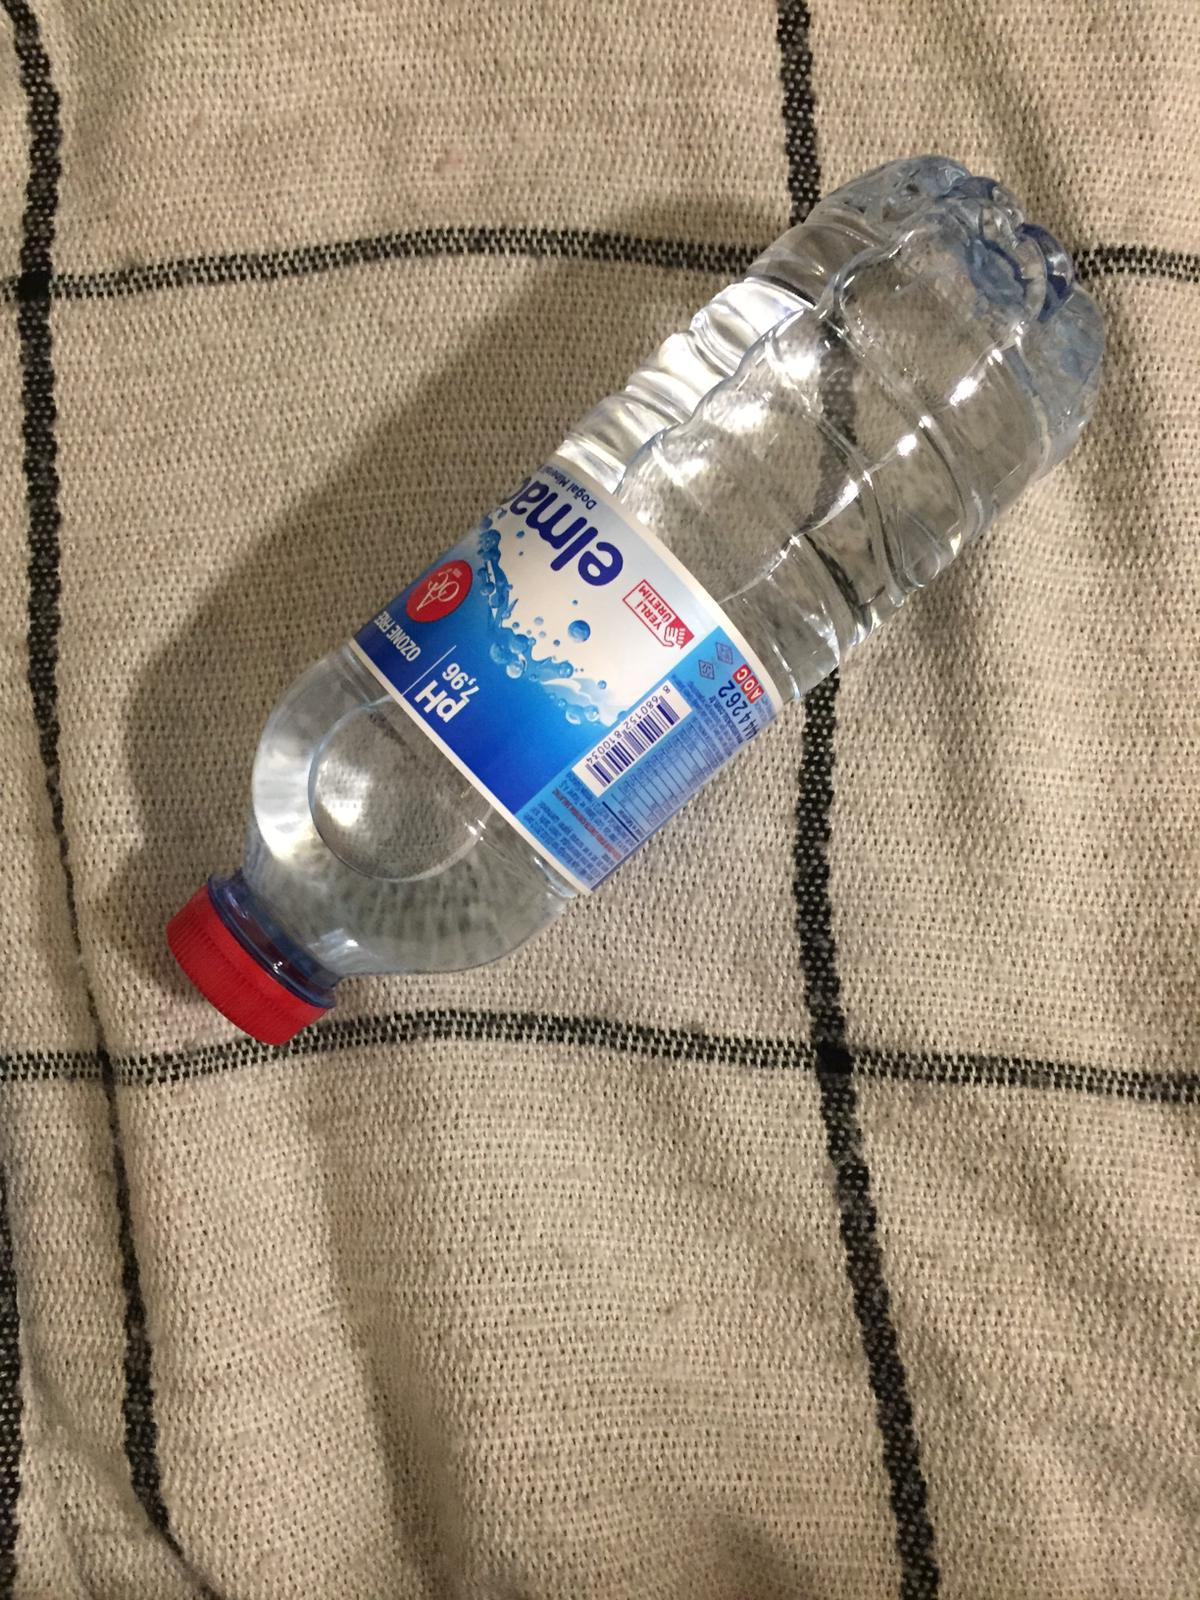bottle: (165, 151, 1108, 1062)
